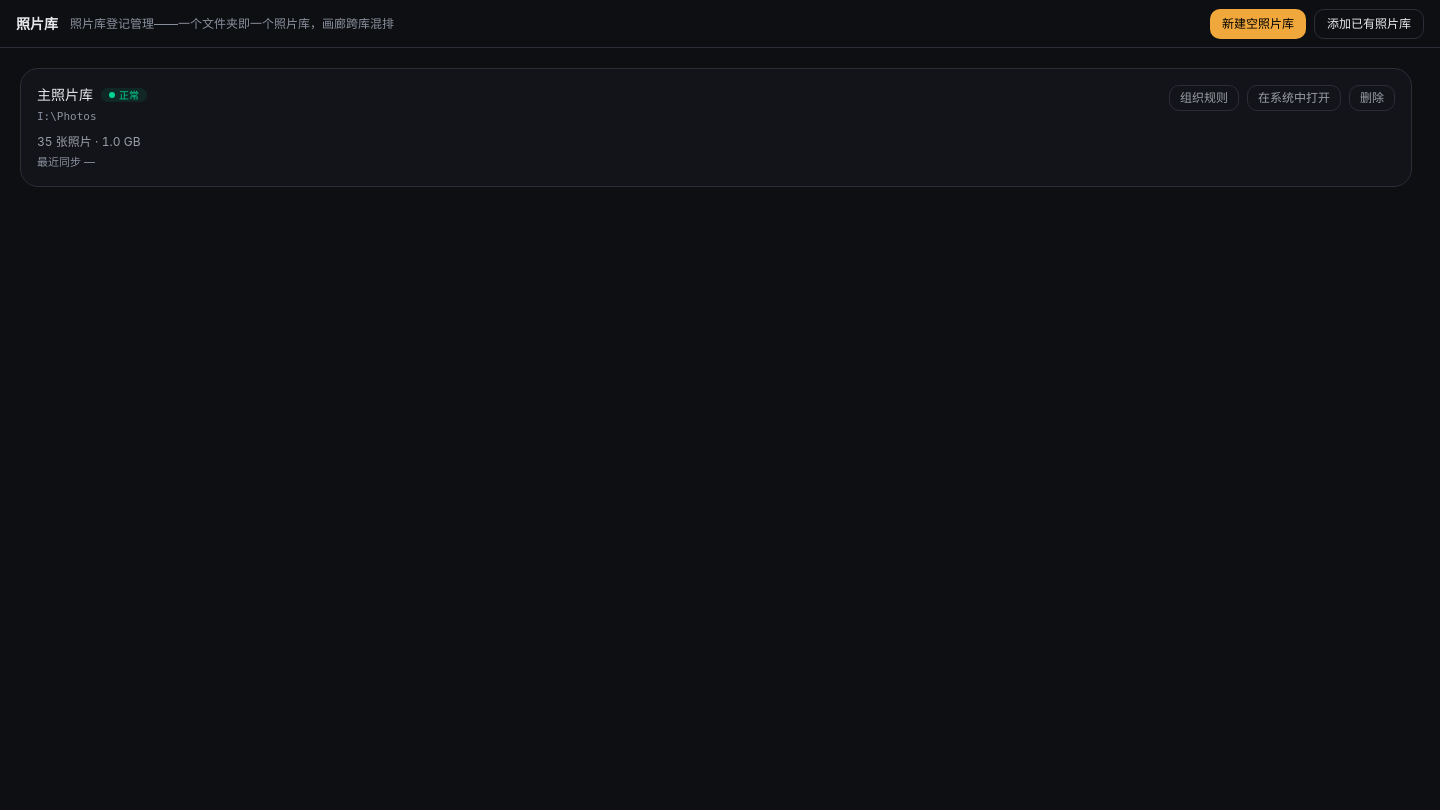
StoragePage 卡片操作 › 删除照片库：单级确认——输入库名执行，默认不删文件（deleteFiles=false）
The image size is (1440, 810).
Click the button with test id "storage-remove" at (1372, 98), box 1349,85 -> 1395,111
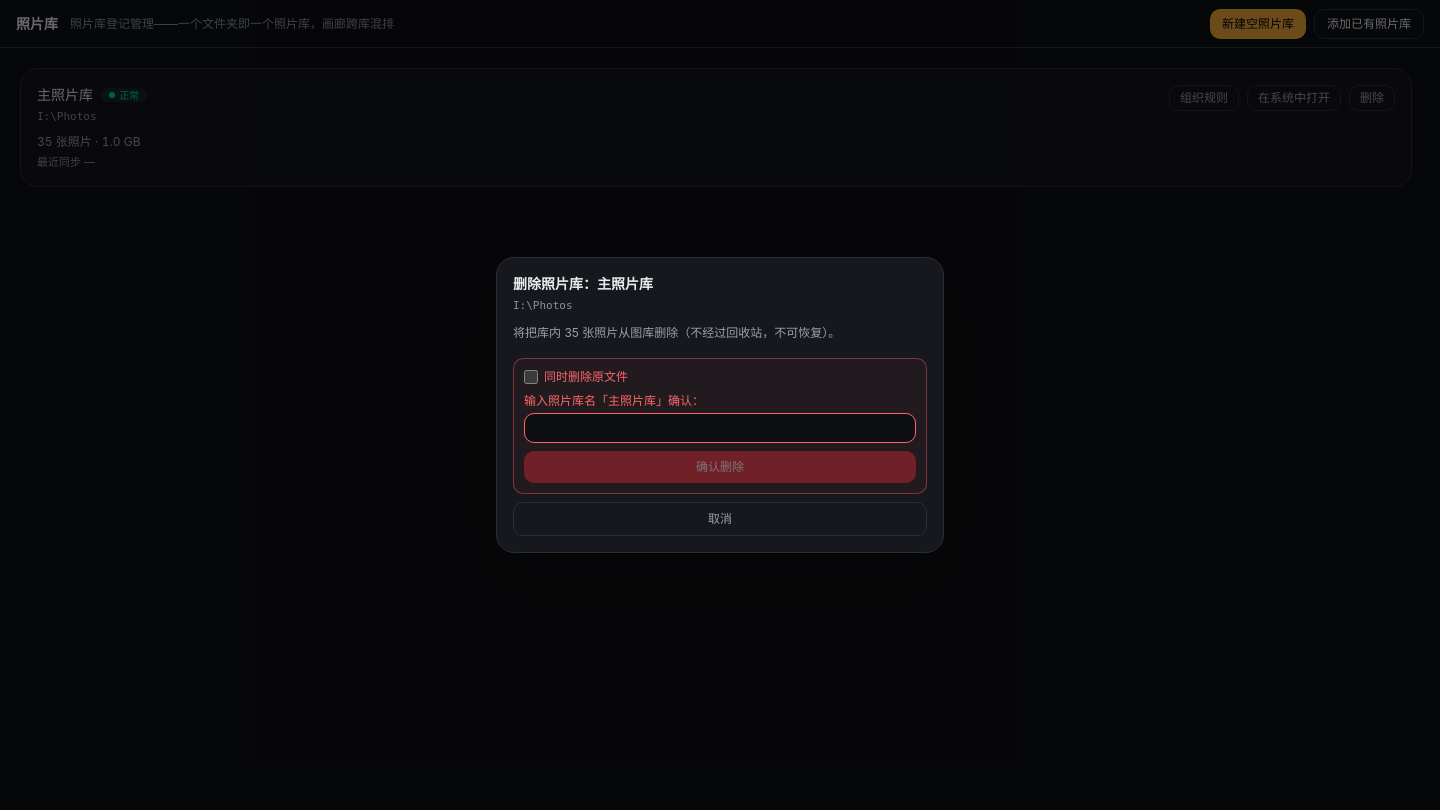
Result: the checkbox with test id "storage-remove-delete-files" is shown at 524,370 -> 538,384
Result: the field with test id "storage-remove-name" is shown
Result: the text "同时删除原文件" is shown at 524,369 -> 628,384
# 库名不匹配不可执行
Type "主照片" into the field with test id "storage-remove-name" at (720, 428), box 524,413 -> 916,443
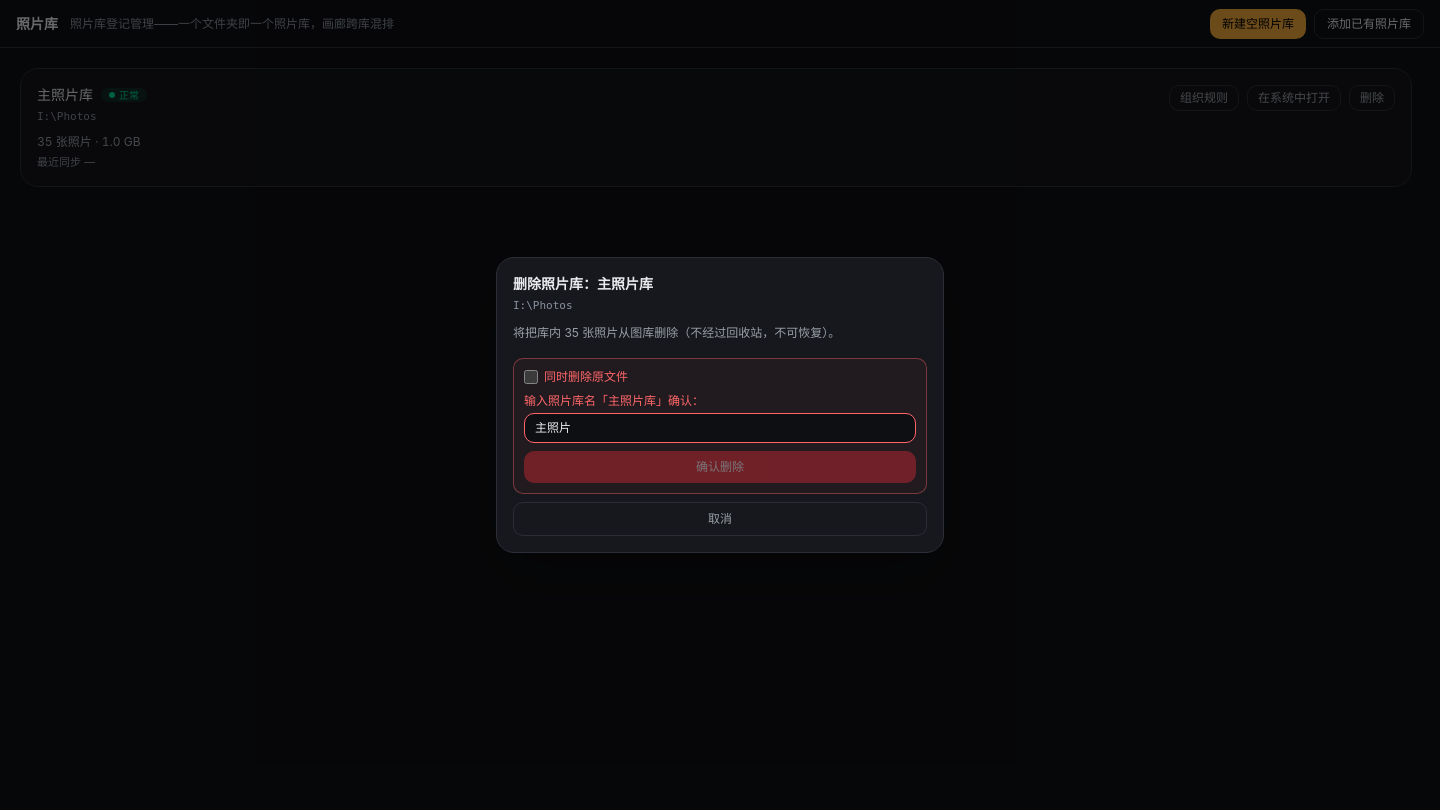
Result: the button with test id "storage-remove-confirm-delete" is disabled at 524,451 -> 916,483
Replace the text in the field with test id "storage-remove-name" with "主照片库" at (720, 428), box 524,413 -> 916,443
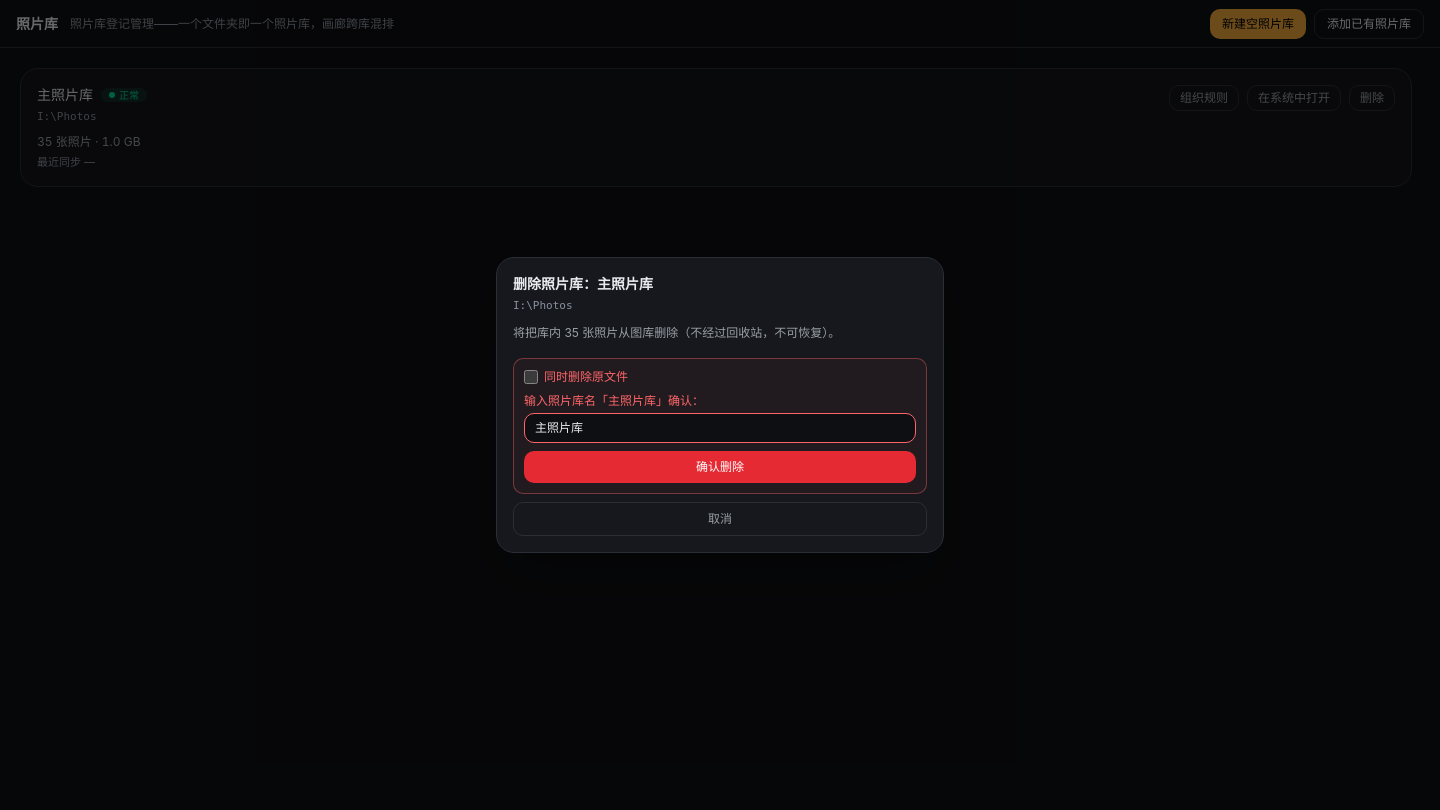
Result: the button with test id "storage-remove-confirm-delete" is enabled
Click the button with test id "storage-remove-confirm-delete" at (720, 467), box 524,451 -> 916,483
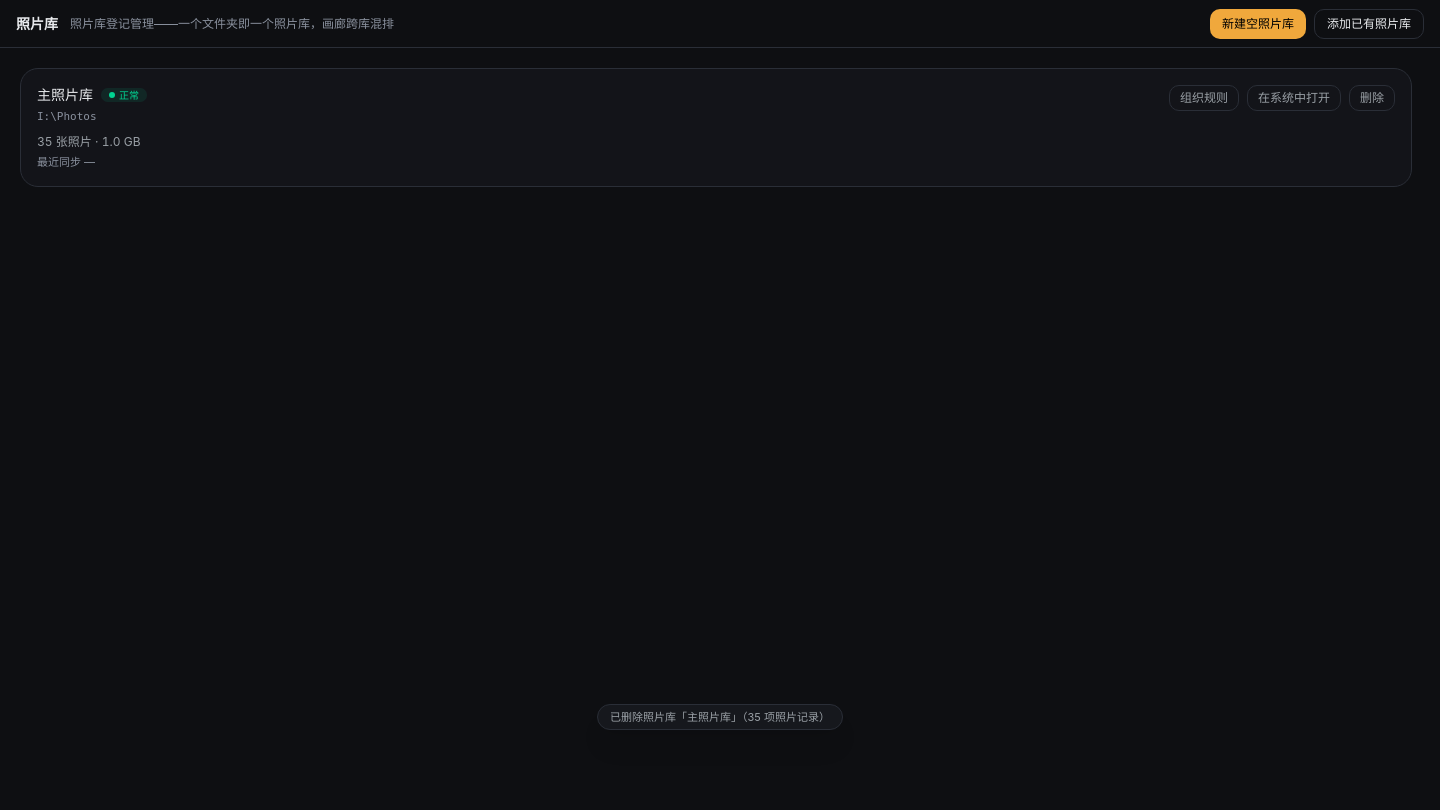
Result: the message with test id "storage-toast" shows "35" at 610,710 -> 830,724
